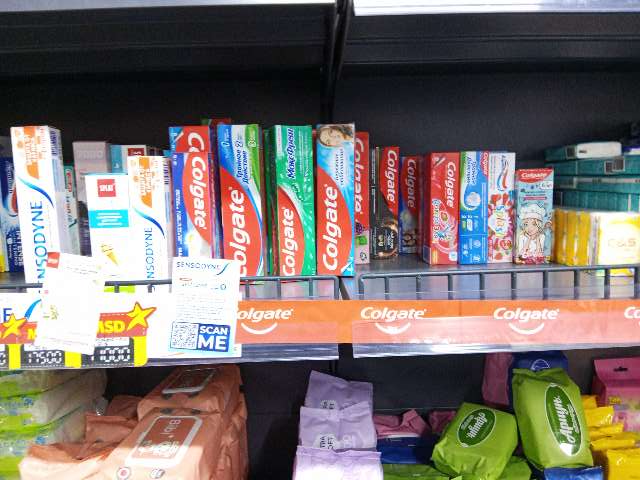colgate: (218, 123, 264, 276), (268, 124, 310, 273), (314, 122, 351, 276), (172, 150, 214, 263), (515, 168, 554, 266), (429, 151, 458, 263), (461, 151, 484, 263), (375, 146, 398, 257), (490, 152, 512, 261), (354, 131, 371, 266), (400, 154, 421, 255)
sensodyne: (11, 126, 61, 282), (127, 156, 167, 281)
splat: (83, 177, 125, 276)
